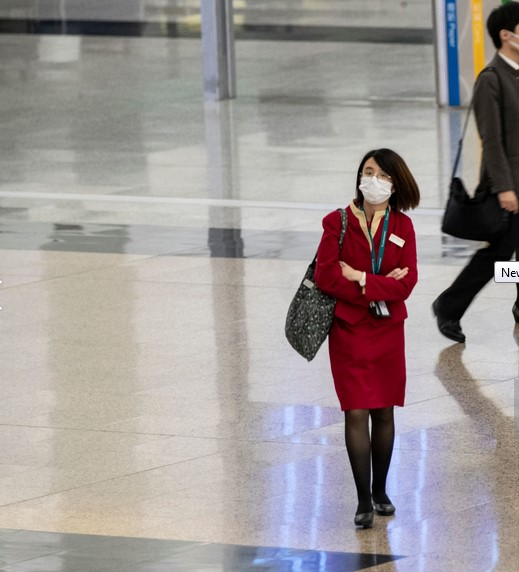face_with_mask: (354, 149, 406, 209)
